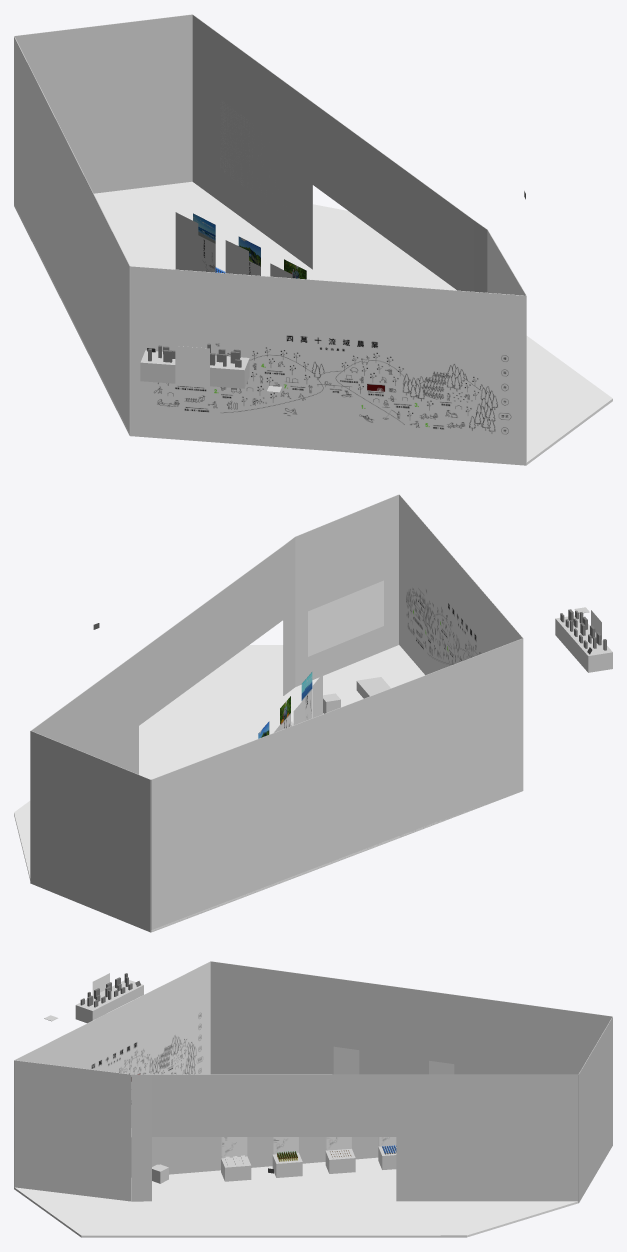
File: taiwanのコピー.glb
3 renders of one model, top to bottom at view 1: azimuth 30°, elevation 25°; view 2: azimuth 150°, elevation 25°; view 3: azimuth 270°, elevation 25°, orthographic. The views are drawn at different scales.
Visible parts, largest first — view 1: Cube.010, 立方体.019, タペストリー6.007, 立方体.012, タペストリー6.009, 立方体.010, タペストリー6.003; view 2: Cube.010, 大タペストリーsunabi.001, 立方体.010; view 3: Cube.010, 平面.025, タペストリー2, 立方体.007, 立方体.003, 立方体.008, 立方体.012, タペストリー6.001, タペストリー6.006, 立方体.022.
Part boxes in pixels (x1=…): Cube.010: x1=14, y1=14, x2=612, y2=465; 立方体.019: x1=175, y1=346, x2=209, y2=386; タペストリー6.007: x1=175, y1=212, x2=198, y2=271; 立方体.012: x1=210, y1=355, x2=249, y2=388; タペストリー6.009: x1=193, y1=213, x2=215, y2=272; 立方体.010: x1=140, y1=350, x2=175, y2=383; タペストリー6.003: x1=225, y1=240, x2=248, y2=274; Cube.010: x1=14, y1=494, x2=523, y2=932; 大タペストリーsunabi.001: x1=308, y1=580, x2=383, y2=656; 立方体.010: x1=577, y1=640, x2=612, y2=672; Cube.010: x1=14, y1=961, x2=612, y2=1237; 平面.025: x1=131, y1=1137, x2=378, y2=1177; タペストリー2: x1=333, y1=1046, x2=359, y2=1074; 立方体.007: x1=325, y1=1148, x2=355, y2=1173; 立方体.003: x1=221, y1=1156, x2=251, y2=1181; 立方体.008: x1=272, y1=1152, x2=302, y2=1177; 立方体.012: x1=75, y1=996, x2=109, y2=1023; タペストリー6.001: x1=221, y1=1137, x2=247, y2=1158; タペストリー6.006: x1=272, y1=1137, x2=298, y2=1154; 立方体.022: x1=378, y1=1145, x2=396, y2=1169.
Bounding box in the file's own units: 18.91 × 6.38 × 26.87.
67 materials, 5 textured.
